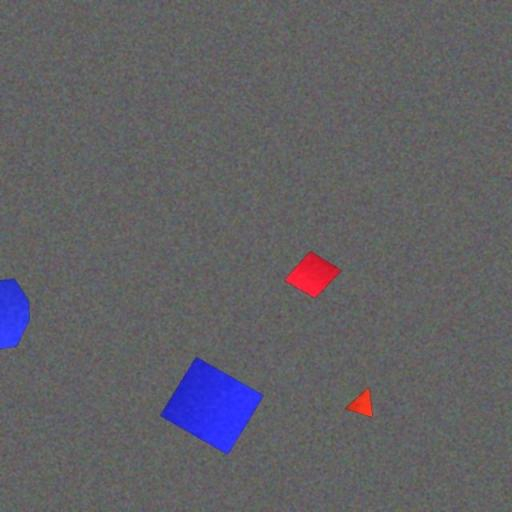BLUE_SQUARE: (159, 356, 265, 455)
RED_SQUARE: (284, 250, 342, 300)
